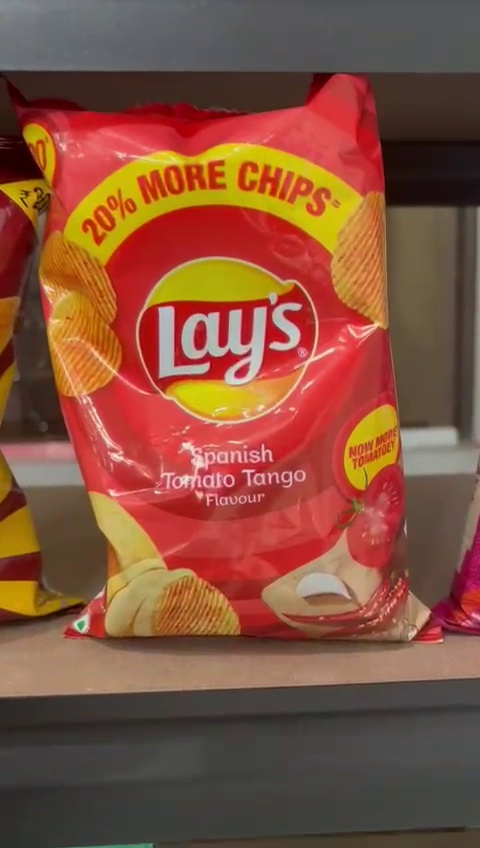Lays: (22, 96, 435, 641)
